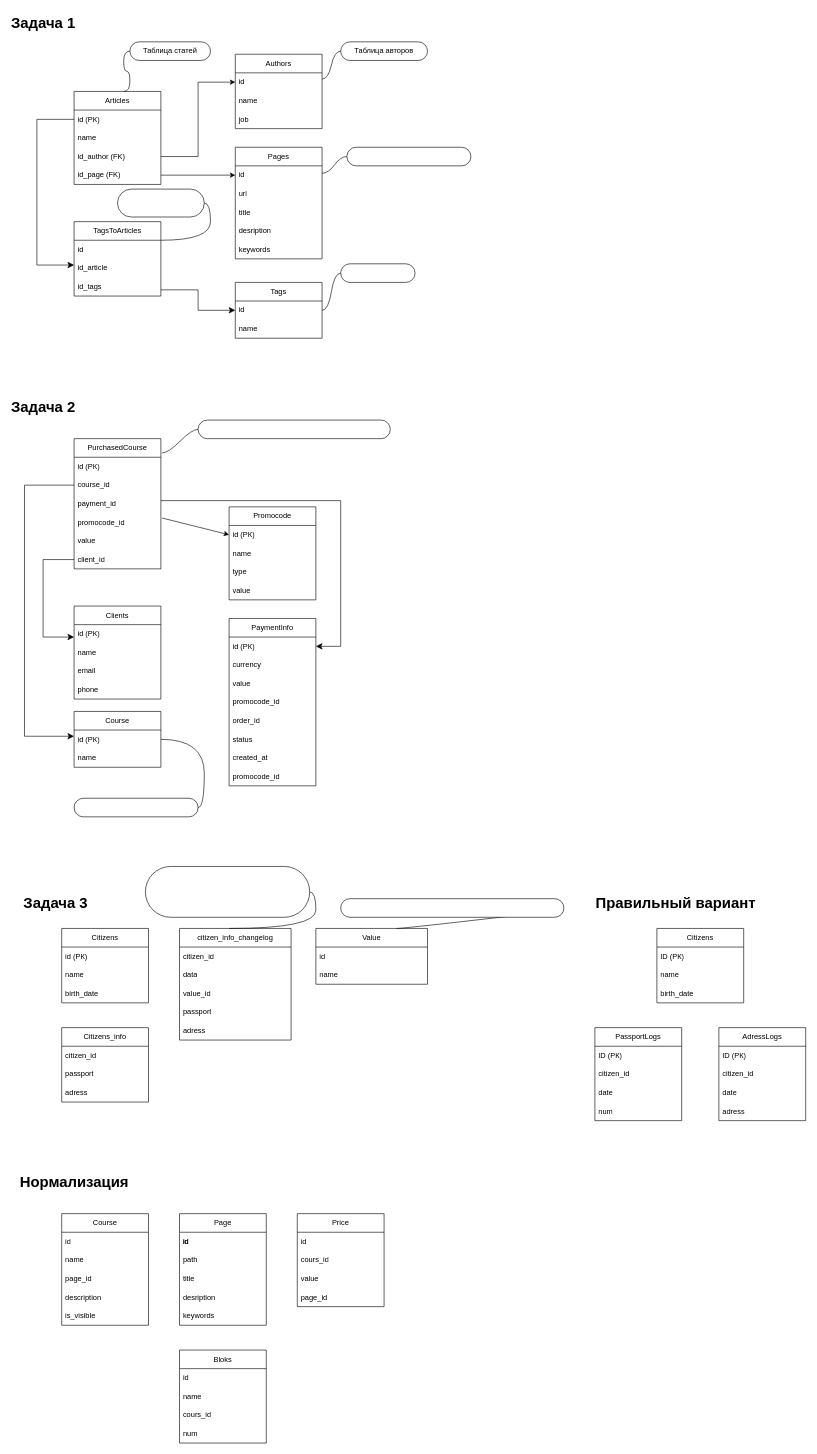
Image size: 817x1454. Some labels were removed from this diagram. Here are the shapes that lost their labels. From the top down, the centre of each, then its label:
point 408,156: Таблица содержания статьи
point 160,202: Связь тегов со статьями
point 377,272: Таблица тегов
point 293,429: Делаем универсальную таблицу покупок курсов
point 135,807: Добавляем таблицу курсов
point 227,891: В таблице записываются новые данные, либо паспорта, либо адреса
point 452,907: Таблица содержит только два значения: паспорт, адрес
